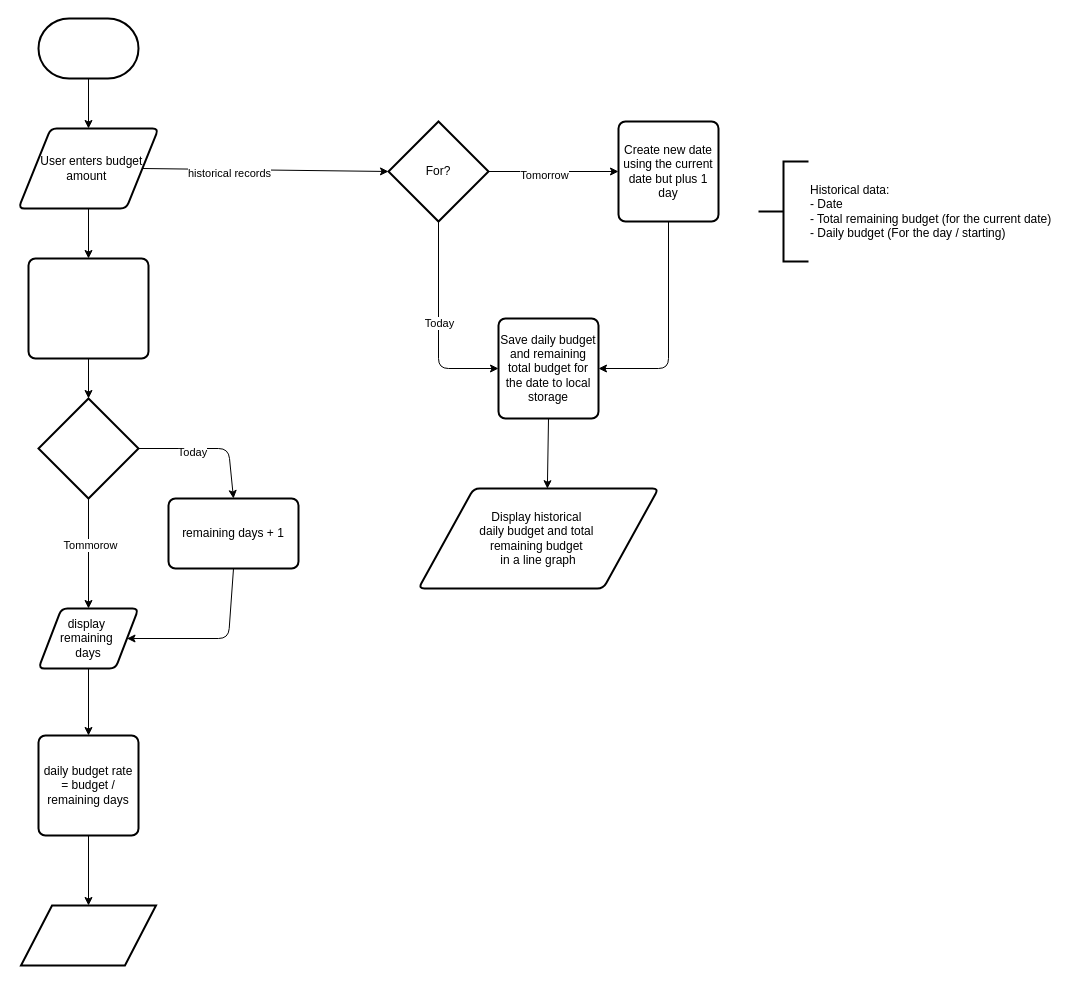
Some shapes in this 1068 by 983 pixel diagram are drawn without their labels. The shapes that lost their labels are listed below. From the top down, each one's centre as x and y in pixels, then its label:
the point at 88,48: Open / Start
the point at 88,308: Get current date and calculate remainng days of the month
the point at 88,448: Starts?
the point at 88,935: display daily budget rate
